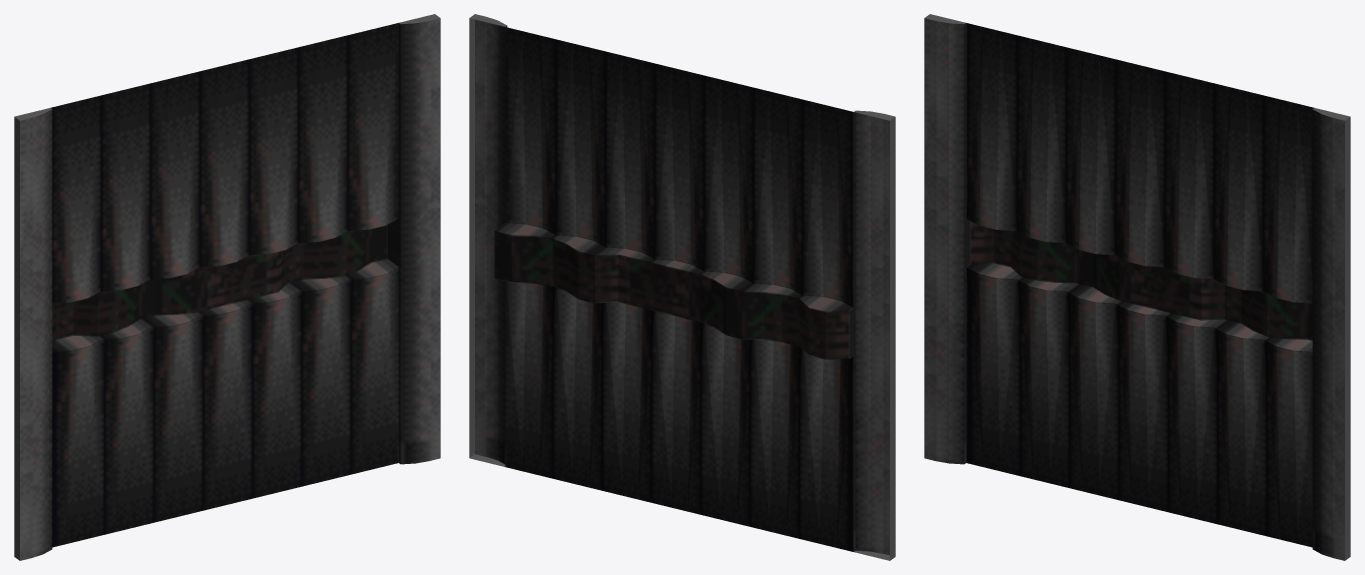
File: reac3_4.fbx
3 renders of one model, left to right at view 1: azimuth 30°, elevation 25°; view 2: azimuth 150°, elevation 25°; view 3: azimuth 330°, elevation 25°, orthographic.
Parts seen in each view (by area): view 1: reac3_4_mesh; view 2: reac3_4_mesh; view 3: reac3_4_mesh.
Boxes of the visible parts, box(x1,y1,x2,y2) form: reac3_4_mesh: box(14, 14, 440, 560); reac3_4_mesh: box(469, 14, 895, 560); reac3_4_mesh: box(924, 14, 1350, 560).
Size of the model in its own units: 256 by 256 by 17.31.
